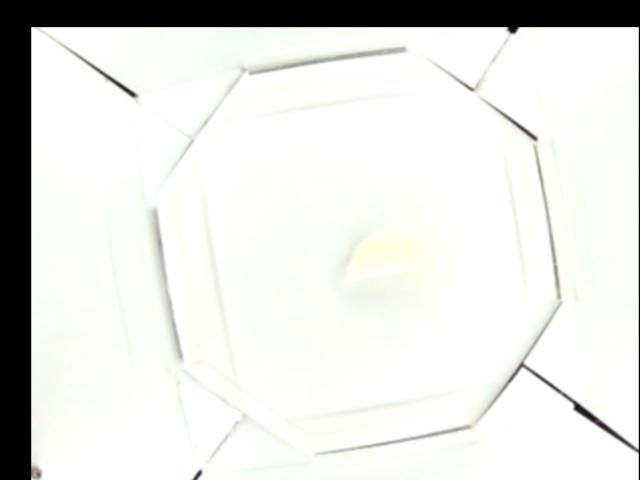Mooli: (344, 234, 431, 280)
